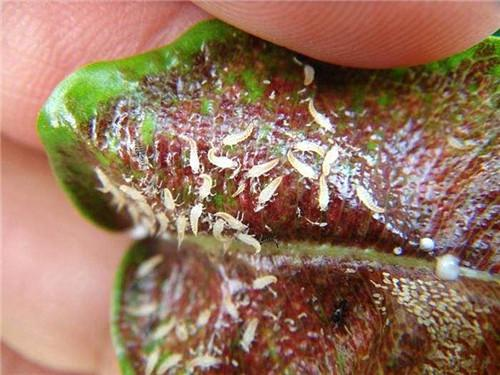Phlaeothripidae: (179, 133, 205, 173), (309, 96, 336, 133), (237, 315, 260, 355), (221, 282, 243, 323), (184, 353, 228, 373), (205, 147, 237, 173), (289, 148, 313, 181), (213, 211, 250, 231), (316, 173, 333, 214), (187, 202, 206, 238)
